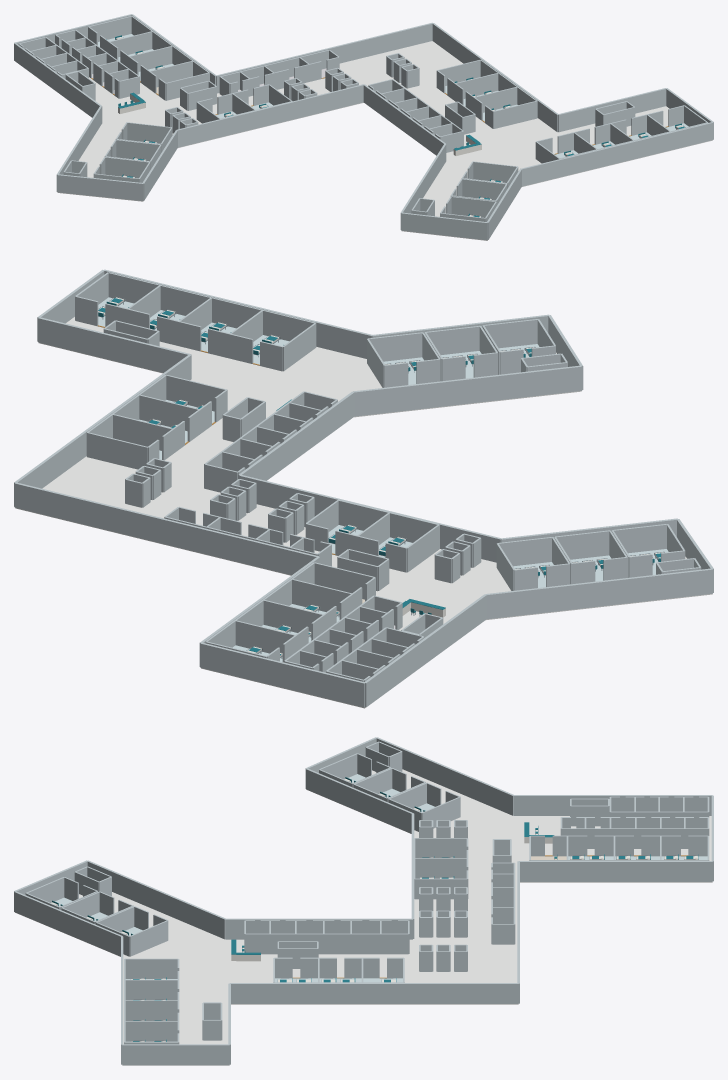
Rendered from dushu-F8-11.glb.
3 renders of one model, top to bottom at view 1: azimuth 30°, elevation 25°; view 2: azimuth 150°, elevation 25°; view 3: azimuth 270°, elevation 25°, orthographic. The views are drawn at different scales.
Visible parts, largest first — view 1: Floor slab, wall-6, wall-11, wall-2, wall-8, wall-13, wall-15, wall-10, wall-4, wall-3, wall-9, wall-94 (+22 smaller); view 2: Floor slab, wall-2, wall-9, wall-14, wall-0, wall-4, wall-15, wall-10, wall-11, wall-3, wall-6, wall-84 (+27 smaller); view 3: Floor slab, wall-3, wall-1, wall-9, wall-14, wall-5, wall-12, wall-7, wall-15, wall-10, wall-99, wall-108 (+19 smaller).
Part boxes in pixels (x1,y1,x2,y2): Floor slab: [57, 41, 712, 240]; wall-6: [520, 122, 713, 186]; wall-11: [176, 84, 364, 147]; wall-2: [216, 22, 432, 93]; wall-8: [401, 212, 487, 240]; wall-13: [57, 174, 143, 200]; wall-15: [14, 43, 101, 117]; wall-10: [363, 84, 445, 155]; wall-4: [558, 88, 666, 132]; wall-3: [432, 23, 558, 131]; wall-9: [400, 144, 446, 229]; wall-94: [493, 101, 537, 128]; Floor slab: [15, 317, 712, 708]; wall-2: [14, 482, 319, 575]; wall-9: [353, 365, 581, 416]; wall-14: [485, 568, 712, 619]; wall-0: [200, 643, 365, 707]; wall-4: [38, 317, 191, 372]; wall-15: [364, 594, 486, 707]; wall-10: [238, 391, 354, 480]; wall-11: [239, 474, 501, 562]; wall-3: [14, 354, 191, 506]; wall-6: [104, 269, 372, 358]; wall-84: [87, 432, 147, 469]; Floor slab: [15, 769, 712, 1065]; wall-3: [229, 983, 518, 1003]; wall-1: [518, 861, 712, 881]; wall-9: [87, 860, 225, 939]; wall-14: [376, 737, 514, 815]; wall-5: [122, 1044, 229, 1065]; wall-12: [305, 768, 413, 833]; wall-7: [14, 891, 122, 956]; wall-15: [513, 795, 712, 815]; wall-10: [225, 918, 412, 939]; wall-99: [125, 979, 177, 1000]; wall-108: [124, 1021, 177, 1041].
Size of the model in its own units: 106 by 3.38 by 102.
